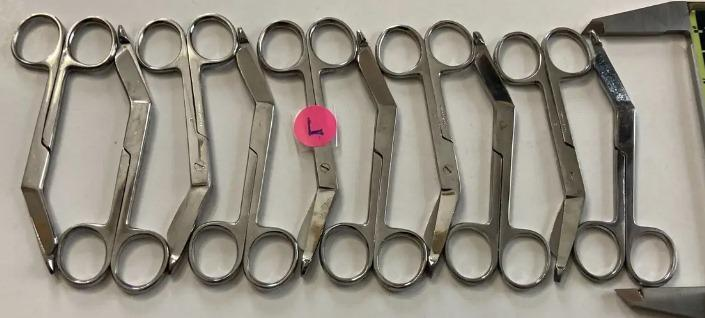Bandage Sciccors: (186, 23, 301, 288), (59, 18, 169, 294), (319, 26, 429, 292), (568, 19, 675, 290), (445, 24, 549, 292), (256, 15, 360, 282), (136, 11, 240, 274), (3, 9, 105, 272), (378, 19, 480, 279), (503, 26, 592, 284)
